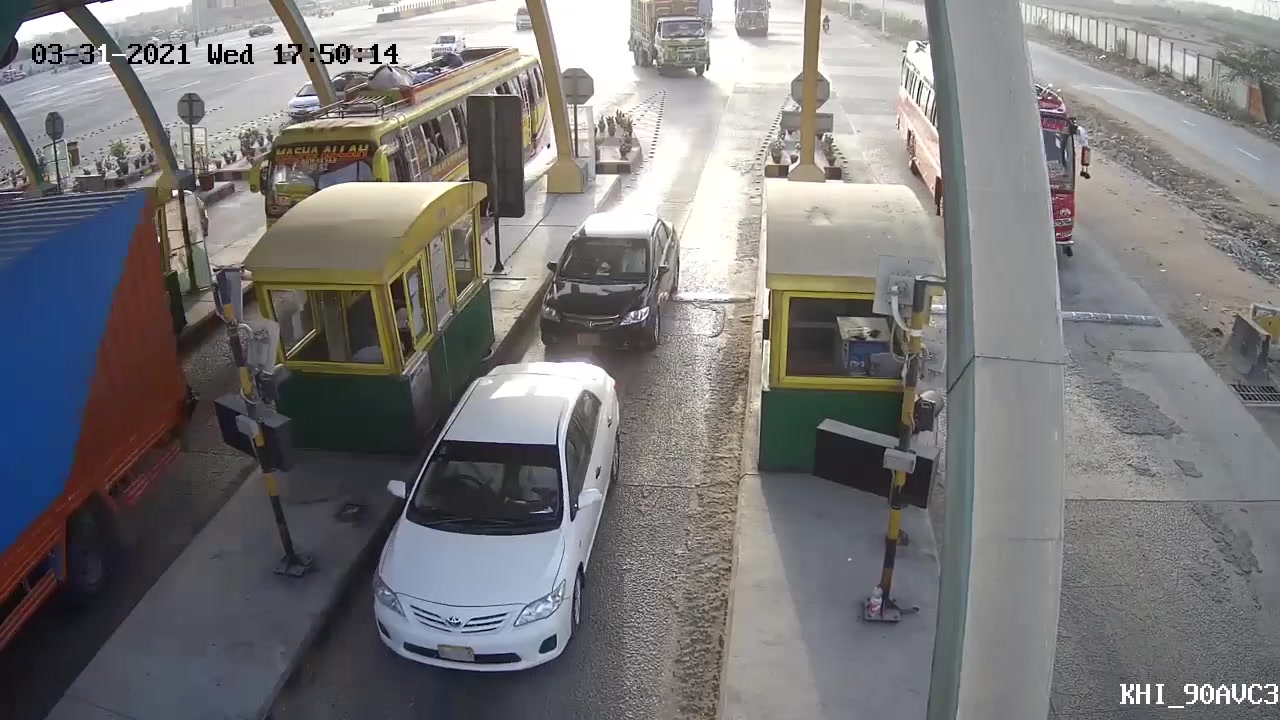F1: (363, 348, 637, 674), (529, 211, 684, 357)
